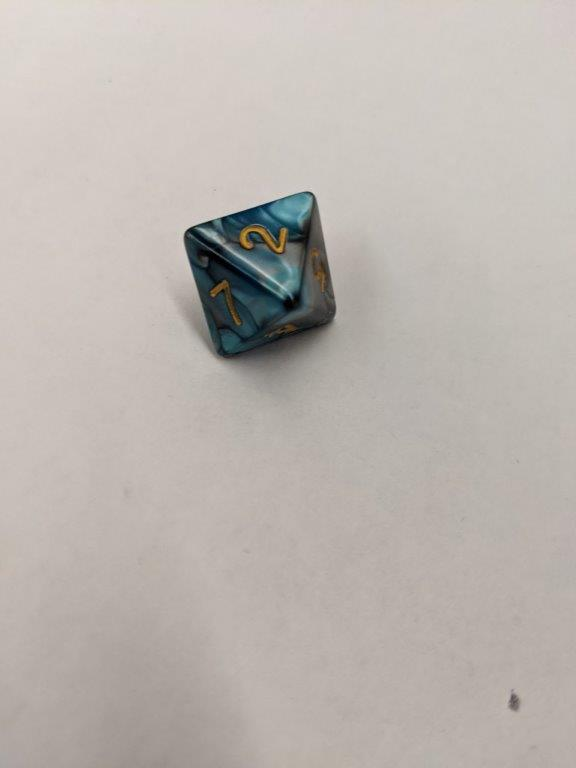d8-2: (184, 189, 337, 358)
